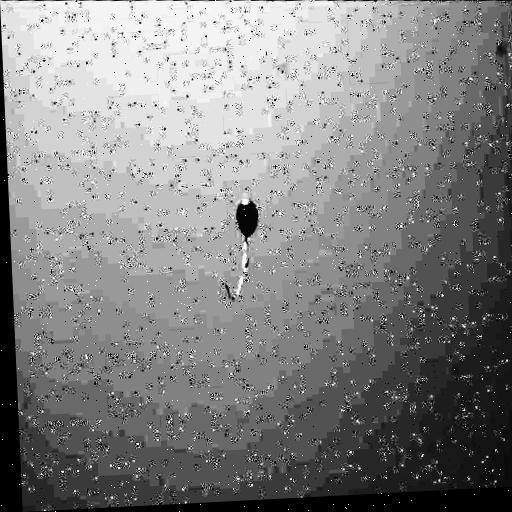balloon: (235, 187, 260, 243)
